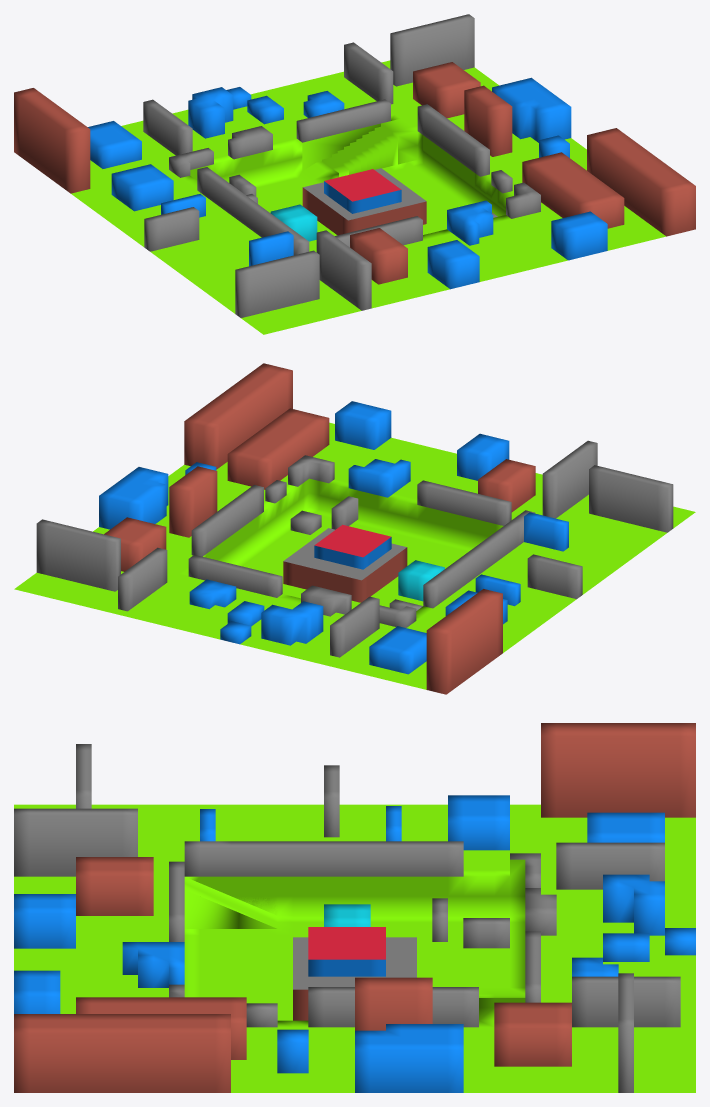
The model's file is Map1.fbx.
The picture shows the model from 3 angles, top to bottom: view 1: azimuth 30°, elevation 25°; view 2: azimuth 150°, elevation 25°; view 3: azimuth 270°, elevation 25°; orthographic projection. The views are drawn at different scales.
Parts seen in each view (by area): view 1: Base, Plane.003, Plane.004, Plane.002, Plane, Plane.005; view 2: Base, Plane.003, Plane.004, Plane.002, Plane, Plane.005; view 3: Base, Plane.004, Plane.003, Plane.002, Plane, Plane.005.
Part boxes in pixels (x1,y1,x2,y2): Base: (71,60,665,334); Plane.003: (143,14,540,317); Plane.004: (14,62,695,284); Plane.002: (88,77,607,289); Plane: (324,169,400,201); Plane.005: (270,204,317,241); Base: (14,422,695,689); Plane.003: (36,440,673,657); Plane.004: (104,363,535,694); Plane.002: (99,401,568,674); Plane: (314,524,391,557); Plane.005: (398,560,444,601); Base: (14,804,695,1092); Plane.004: (14,723,695,1092); Plane.003: (14,744,680,1092); Plane.002: (14,795,695,1092); Plane: (308,927,385,959); Plane.005: (324,904,370,926).
Size of the model in its own units: 10000 by 1950 by 10000.
